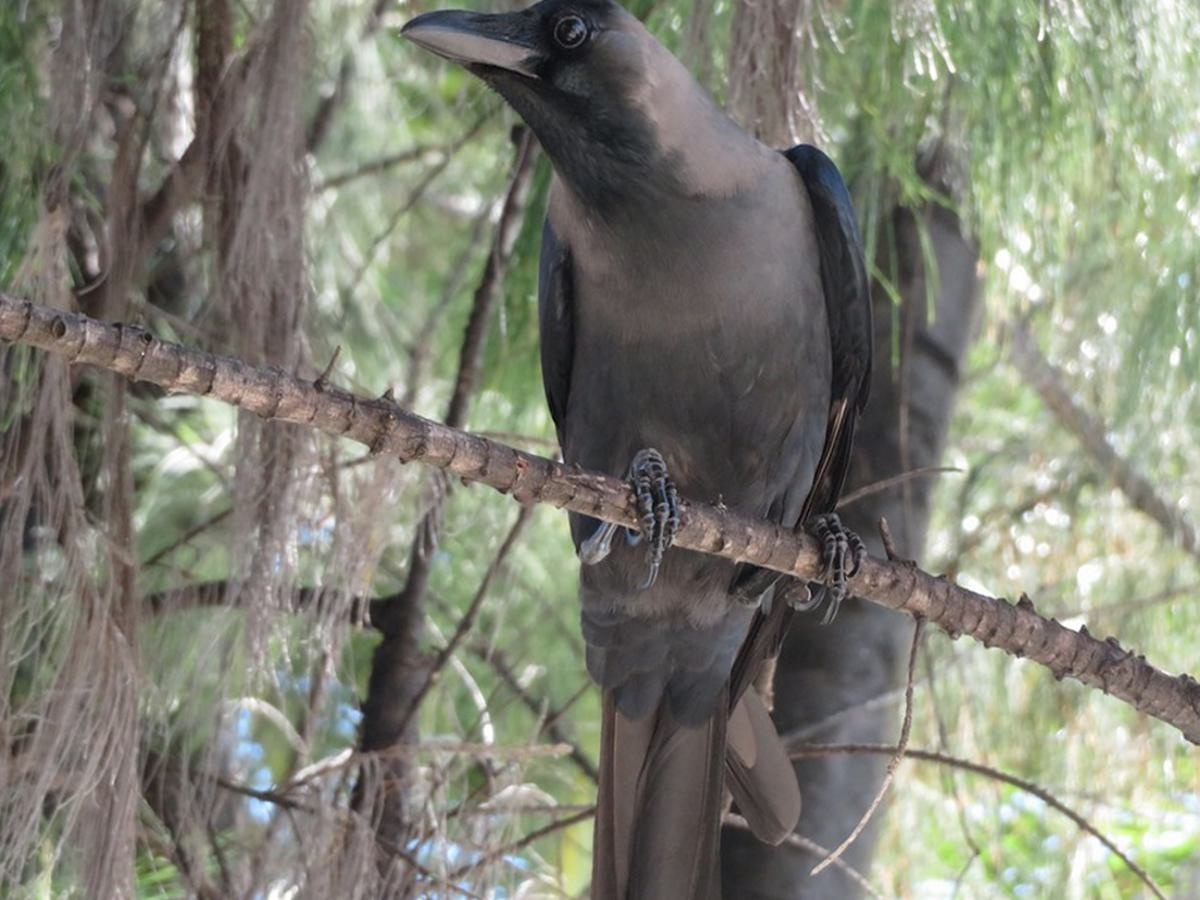crow: (391, 7, 879, 900)
